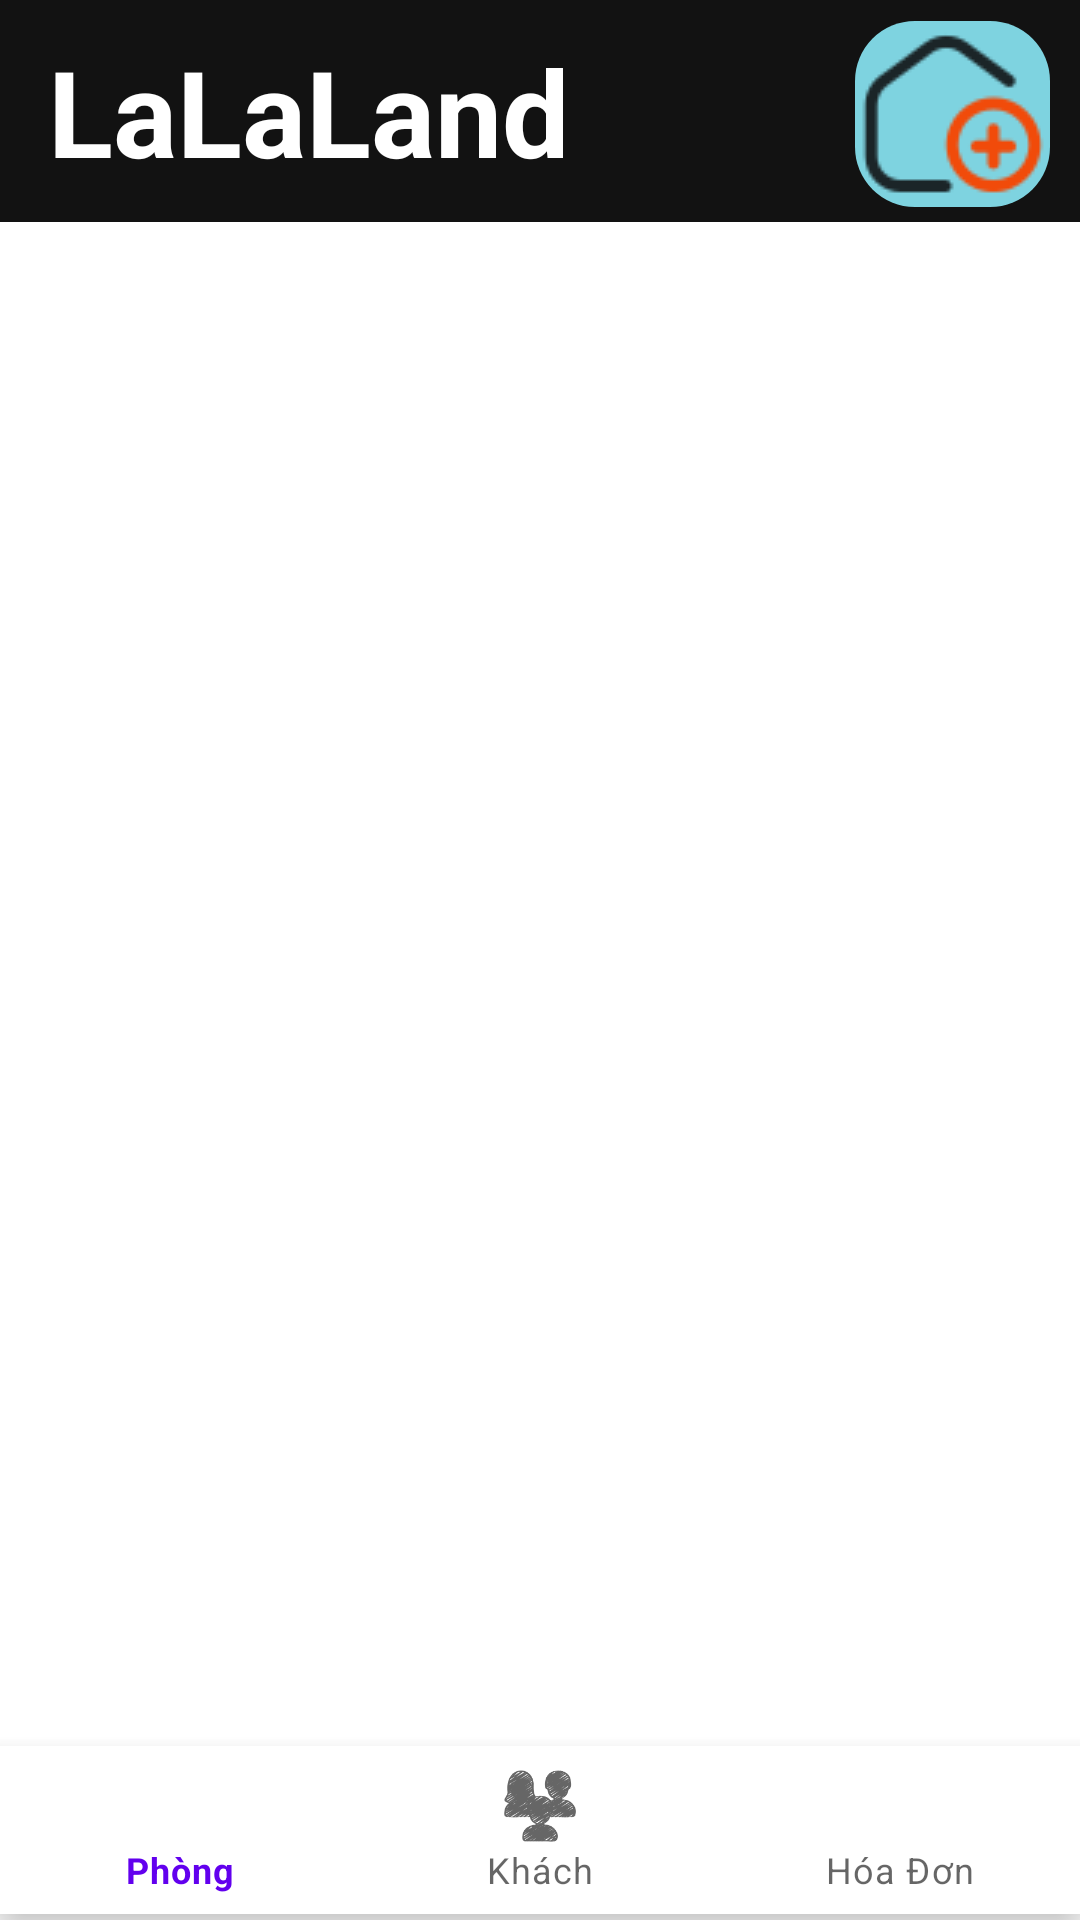

Icon click points for this 1080×1920 phone screenshot, format point (x, y):
addroom: point (952, 114)
